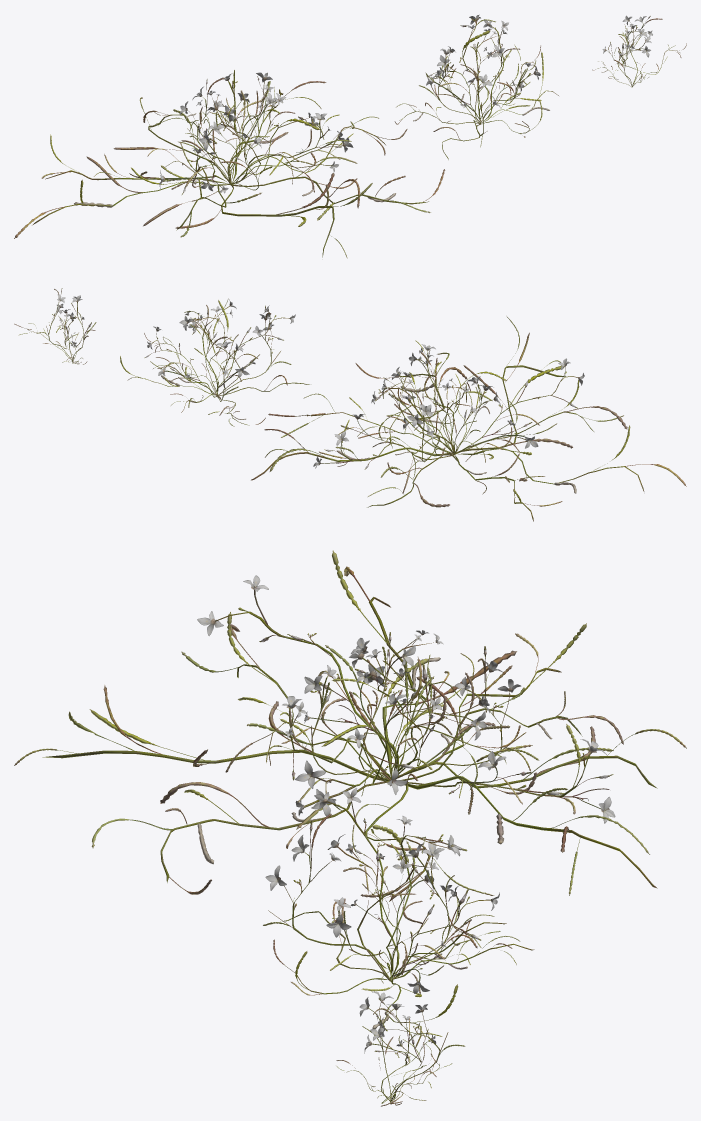
The model's file is heliophila.glb.
3 views of the same model, one above another, from view 1: azimuth 30°, elevation 25°; view 2: azimuth 150°, elevation 25°; view 3: azimuth 270°, elevation 25° (orthographic). The views are drawn at different scales.
Visible parts, largest first — view 1: flower_heliophila_large_LOD2, flower_heliophila_medium_LOD2, flower_heliophila_small_LOD2; view 2: flower_heliophila_large_LOD2, flower_heliophila_medium_LOD2, flower_heliophila_small_LOD2; view 3: flower_heliophila_large_LOD2, flower_heliophila_medium_LOD2, flower_heliophila_small_LOD2.
Part boxes in pixels (x1,y1,x2,y2): flower_heliophila_large_LOD2: [14, 70, 445, 258]; flower_heliophila_medium_LOD2: [394, 14, 558, 159]; flower_heliophila_small_LOD2: [592, 15, 686, 87]; flower_heliophila_large_LOD2: [251, 316, 686, 521]; flower_heliophila_medium_LOD2: [120, 298, 309, 426]; flower_heliophila_small_LOD2: [14, 288, 96, 364]; flower_heliophila_large_LOD2: [14, 550, 686, 923]; flower_heliophila_medium_LOD2: [263, 788, 534, 1047]; flower_heliophila_small_LOD2: [336, 991, 465, 1106].
Bounding box in the file's own units: 2.75 × 0.3993 × 1.42.
Materials: 1 (1 with a texture image).
